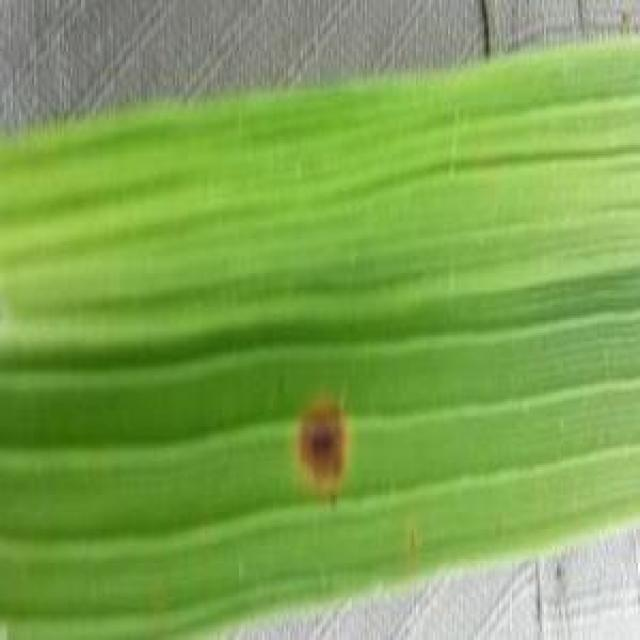brownspots: (286, 394, 376, 496)
